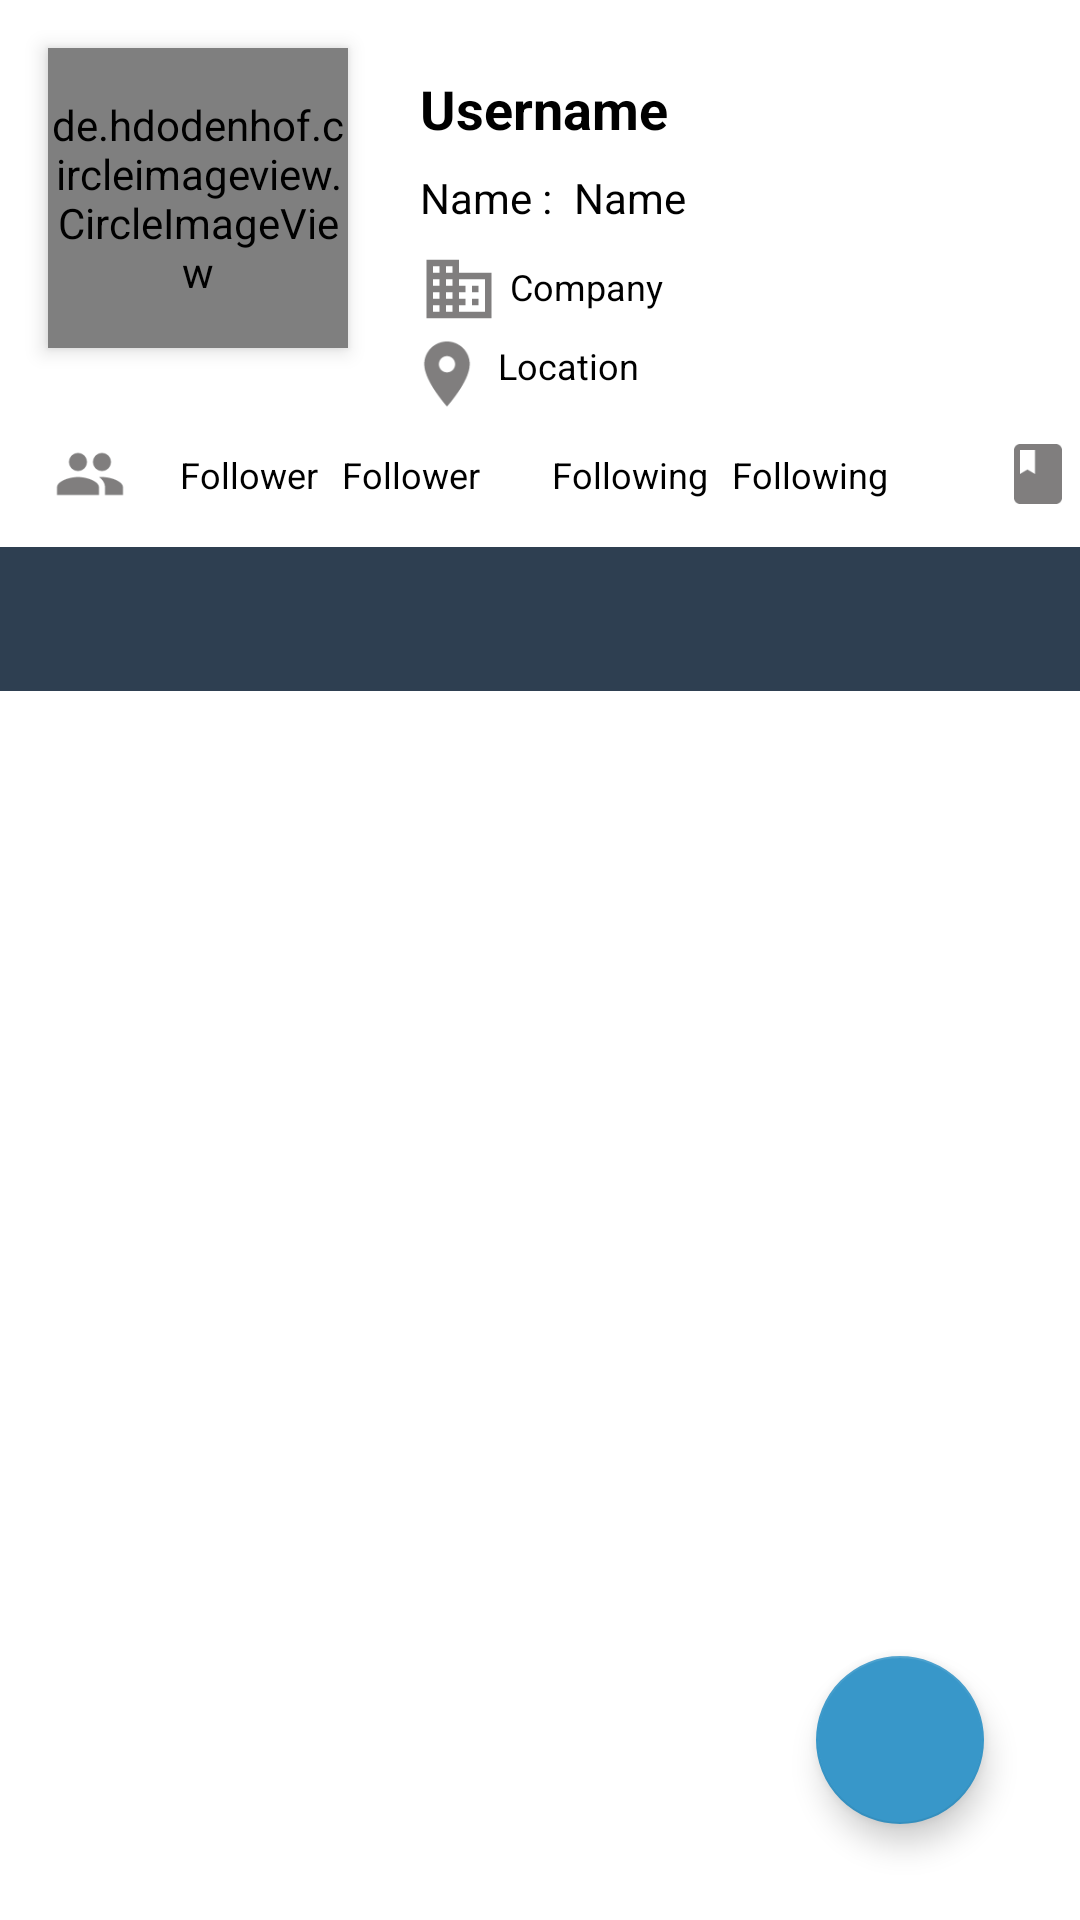

Icons on this 1080×1920 Android screen, each with the point to tap as (x=x, y=y):
business: (x=459, y=289)
people: (x=90, y=474)
